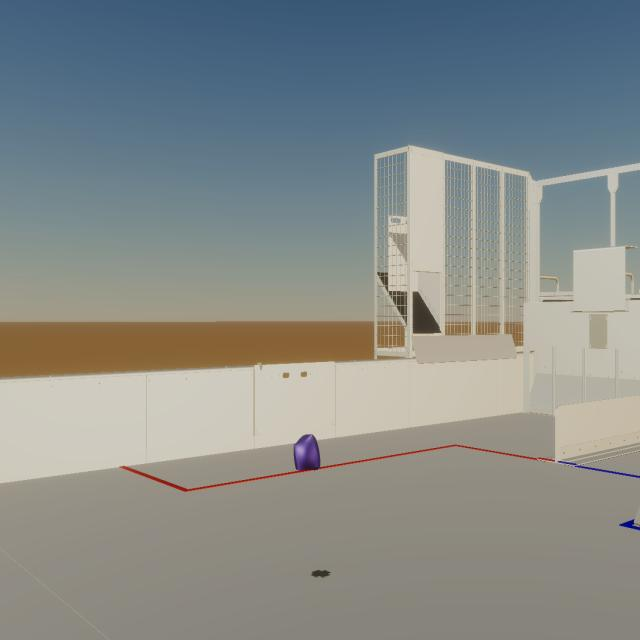frc_cube: (294, 434, 320, 470)
